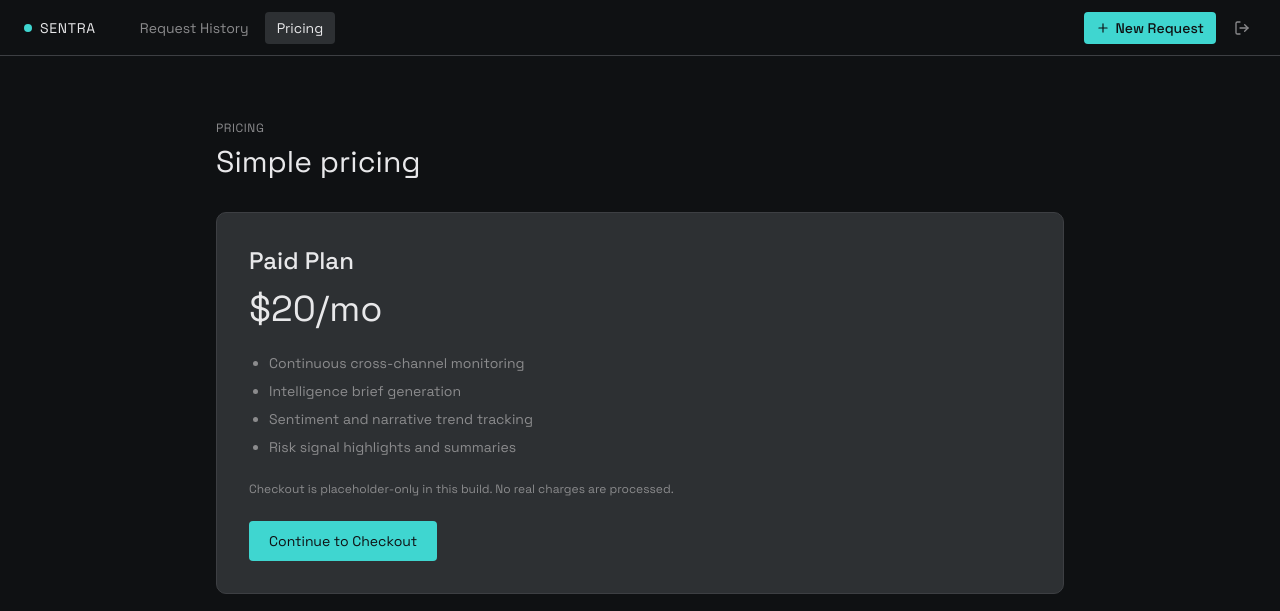
Test: pricing and checkout routes › navigates from pricing to checkout placeholder
Click the link "Continue to Checkout" at x=343, y=541, box [249,521,437,561]
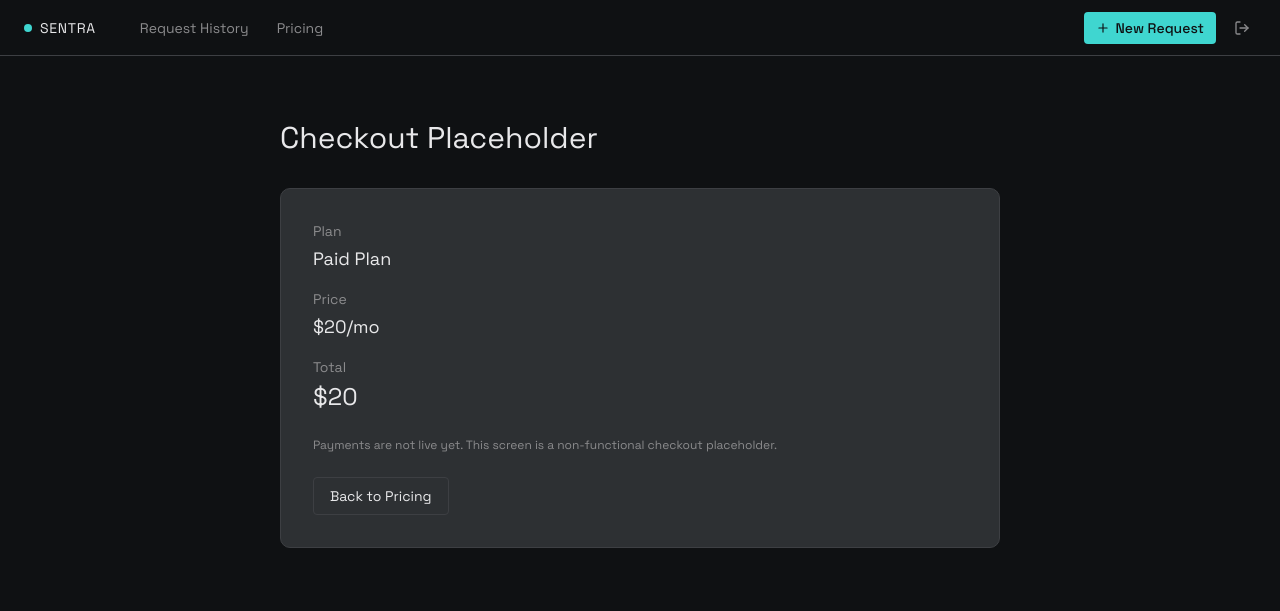
Expected: the heading "Checkout Placeholder" is shown, [280,118,598,157]
